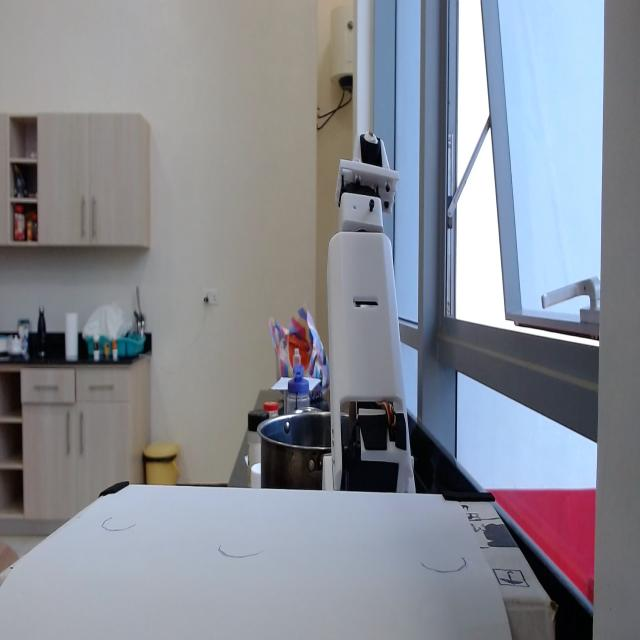cooking_pot: (255, 384, 333, 487)
